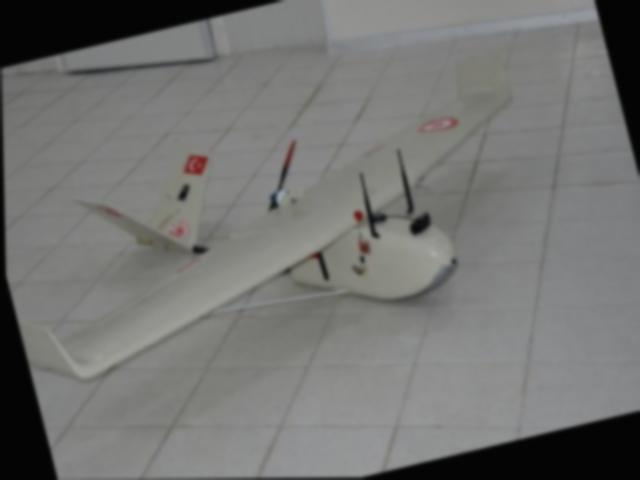iha: (1, 27, 587, 388)
